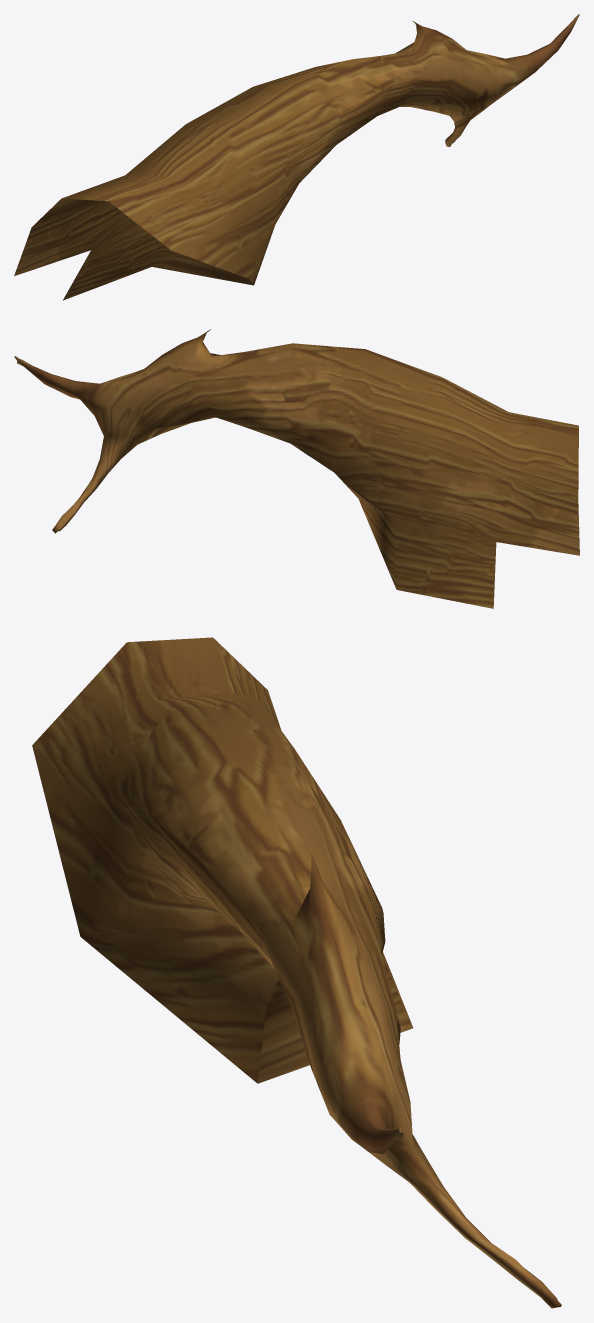
File: TreeRoot.fbx
3 views of the same model, one above another, from view 1: azimuth 30°, elevation 25°; view 2: azimuth 150°, elevation 25°; view 3: azimuth 270°, elevation 25° (orthographic). The views are drawn at different scales.
Visible parts, largest first — view 1: Tree3; view 2: Tree3; view 3: Tree3.
Boxes of the visible parts, left/top/right/bottom form: Tree3: left=14, top=14, right=579, bottom=300; Tree3: left=14, top=329, right=579, bottom=608; Tree3: left=32, top=637, right=561, bottom=1308.
Size of the model in its own units: 6.74 by 2.31 by 2.87.
